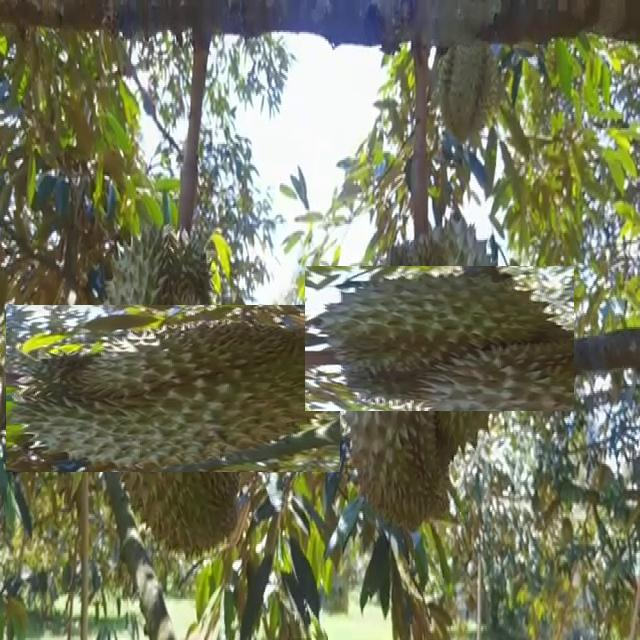durian: (49, 261, 303, 515), (336, 235, 544, 442), (340, 302, 444, 546), (432, 34, 502, 149)
